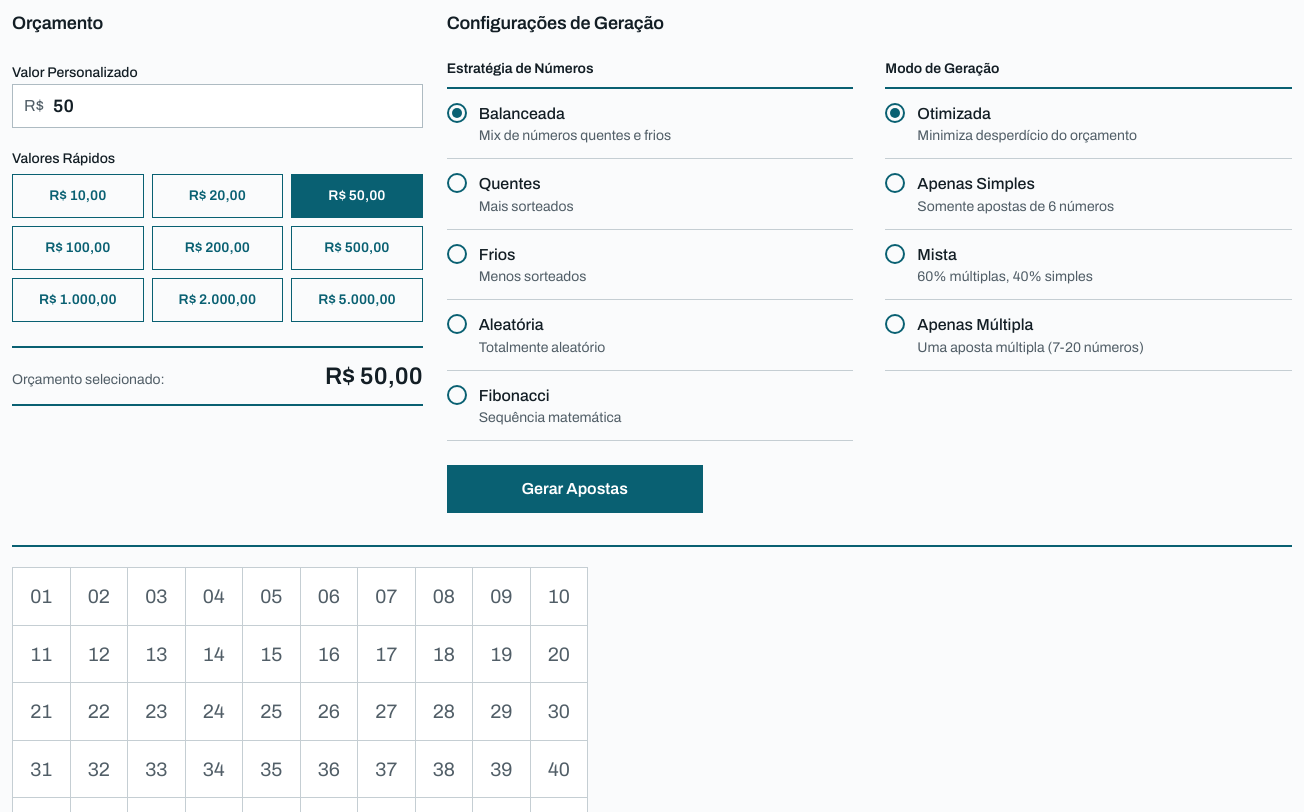
Test: GeneratorForm › exibe a mensagem de erro quando a geração falha
This screenshot has width=1304, height=812.
Click the button "Gerar Apostas" at coordinates (575, 490), box [447,466,703,514]
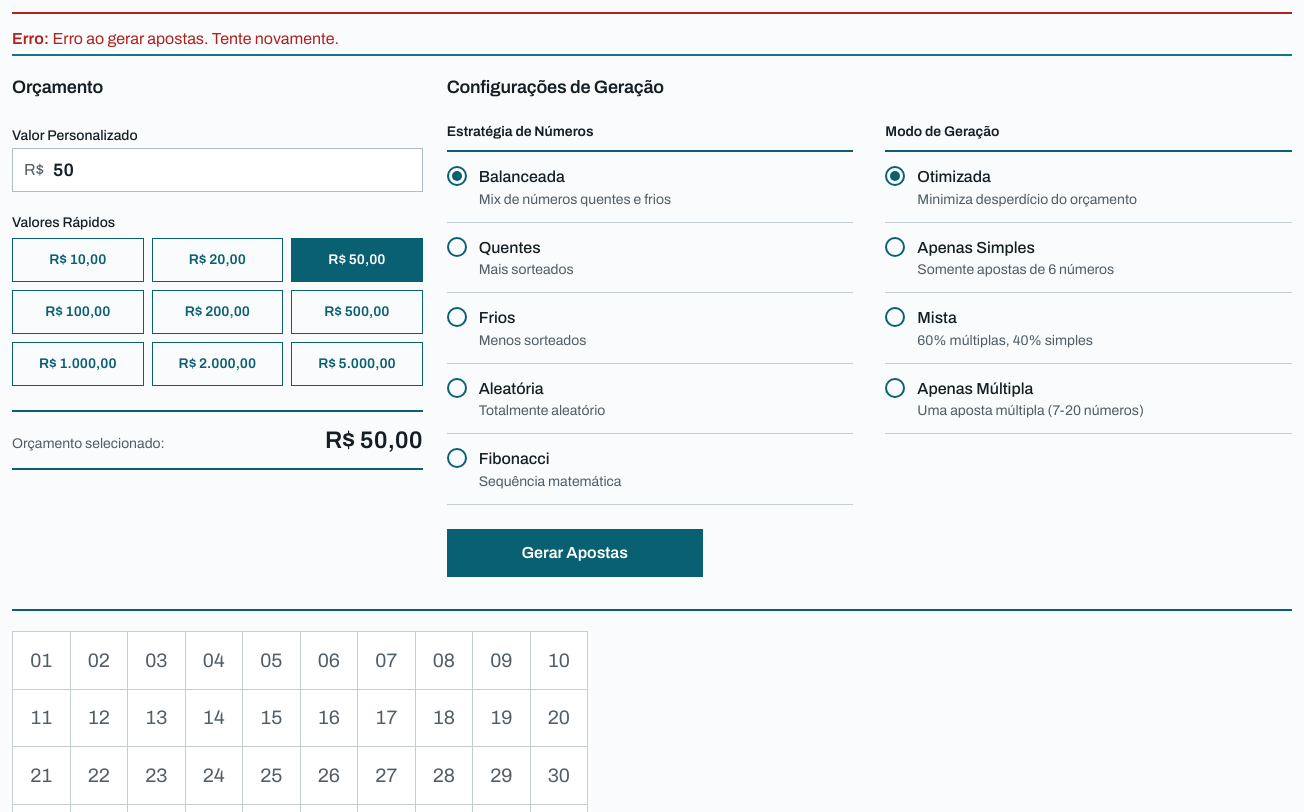
Expected: the text "Erro:" is shown, [12,30,49,47]
Expected: the text "Erro: Erro ao gerar apostas. Tente novamente." is shown, [12,12,1292,52]
